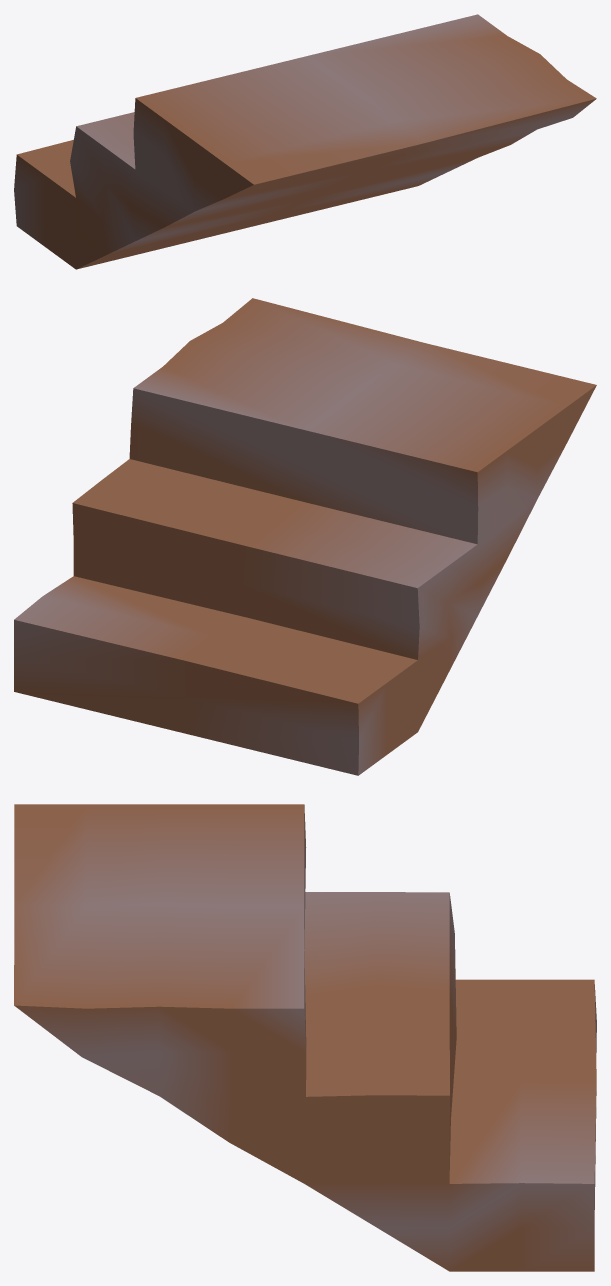
File: stairs.glb
3 views of the same model, one above another, from view 1: azimuth 30°, elevation 25°; view 2: azimuth 150°, elevation 25°; view 3: azimuth 270°, elevation 25° (orthographic). The views are drawn at different scales.
Visible parts, largest first — view 1: Cube; view 2: Cube; view 3: Cube.
Boxes of the visible parts, x1,y1,x2,y2 form: Cube: (14,14,596,269); Cube: (14,298,596,775); Cube: (14,804,596,1271).
Size of the model in its own units: 1.02 by 0.623 by 1.21.
